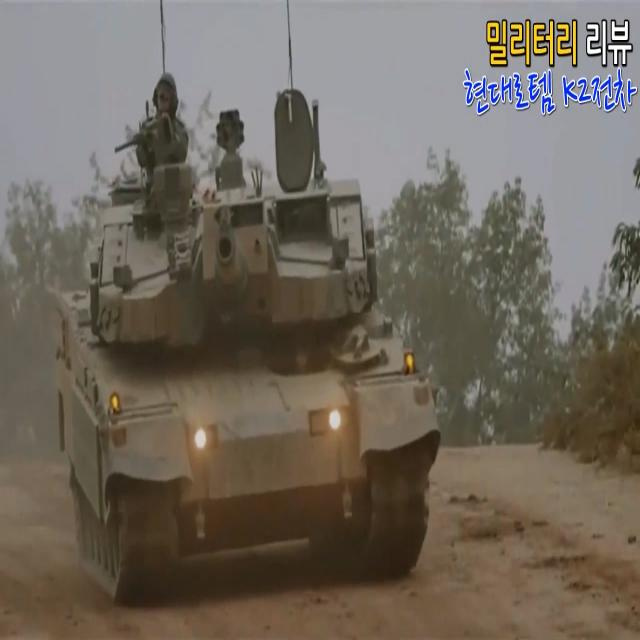korea tank: (57, 73, 439, 595)
